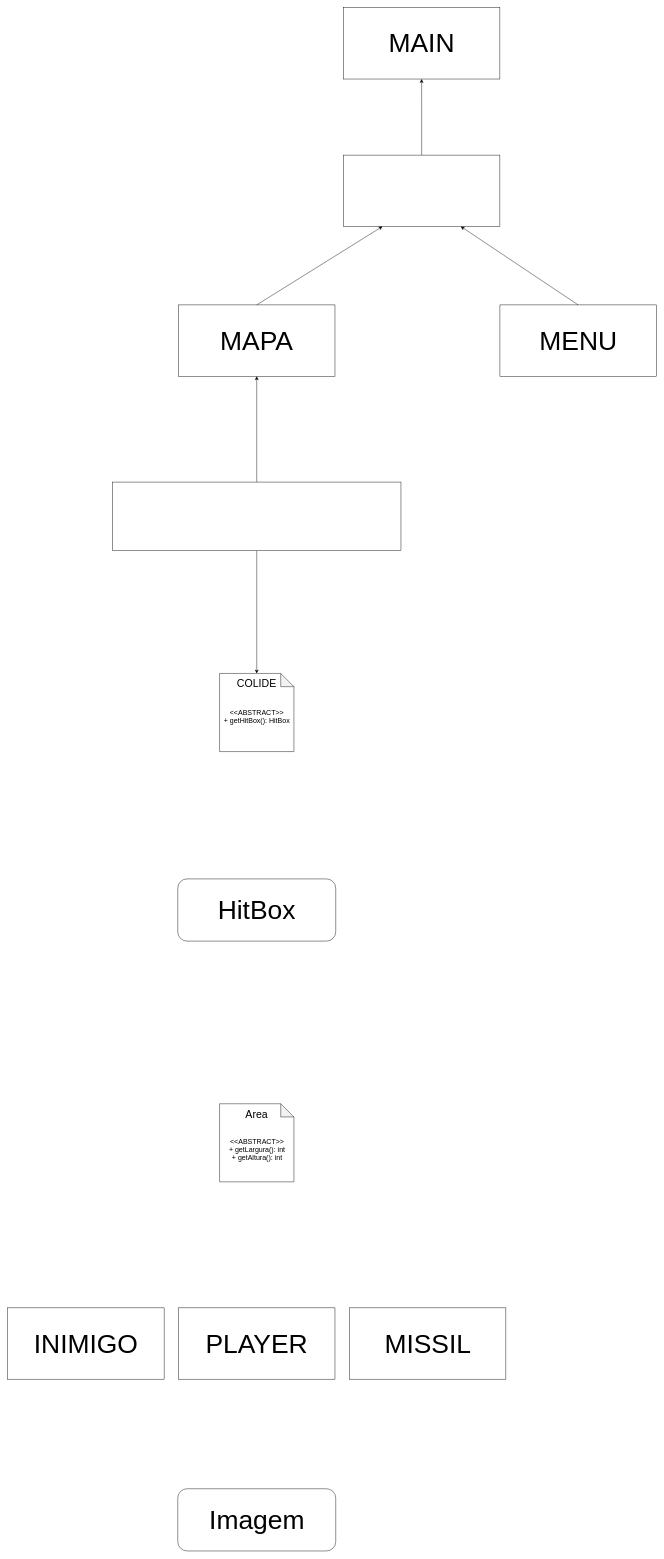
The diagram is 664 pixels wide and 1559 high, and some of its shapes have lost their labels. Here are the shapes that lost their labels. From the top down, the box of each, then its label:
(343, 155, 500, 226): JANELA
(112, 482, 401, 551): ValidaColisoes
